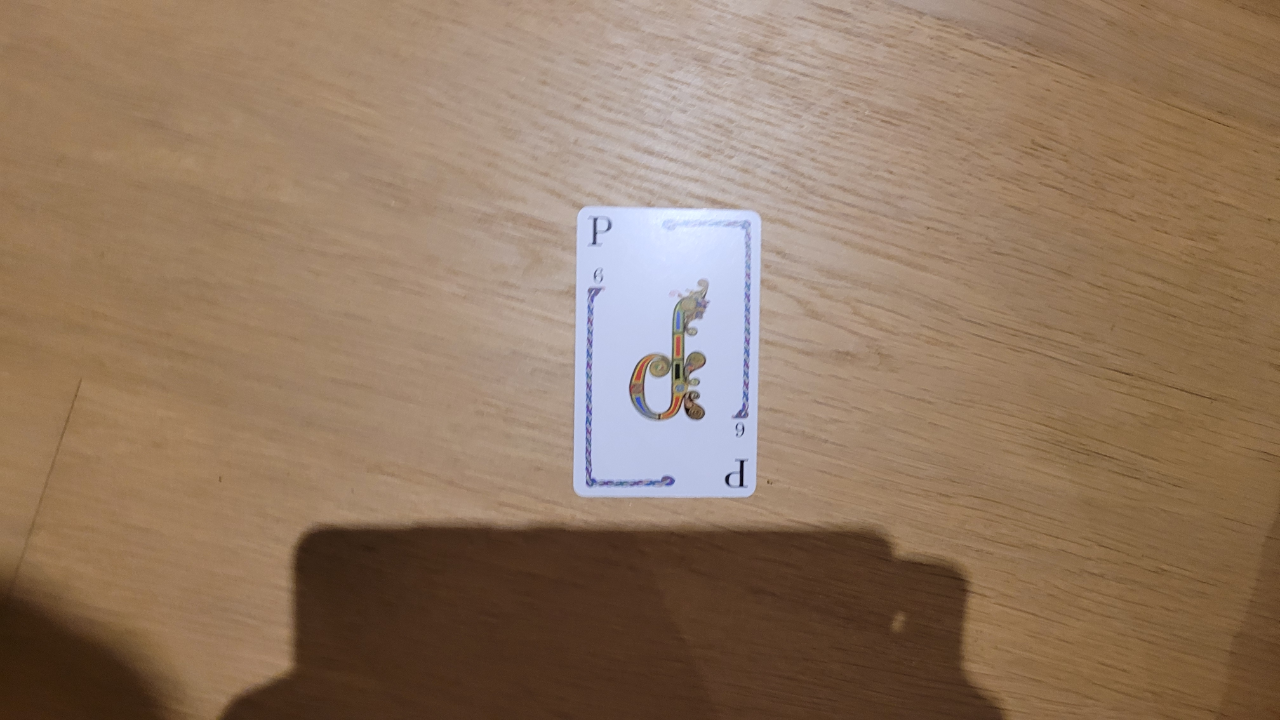quiddler_card: (538, 190, 786, 521)
